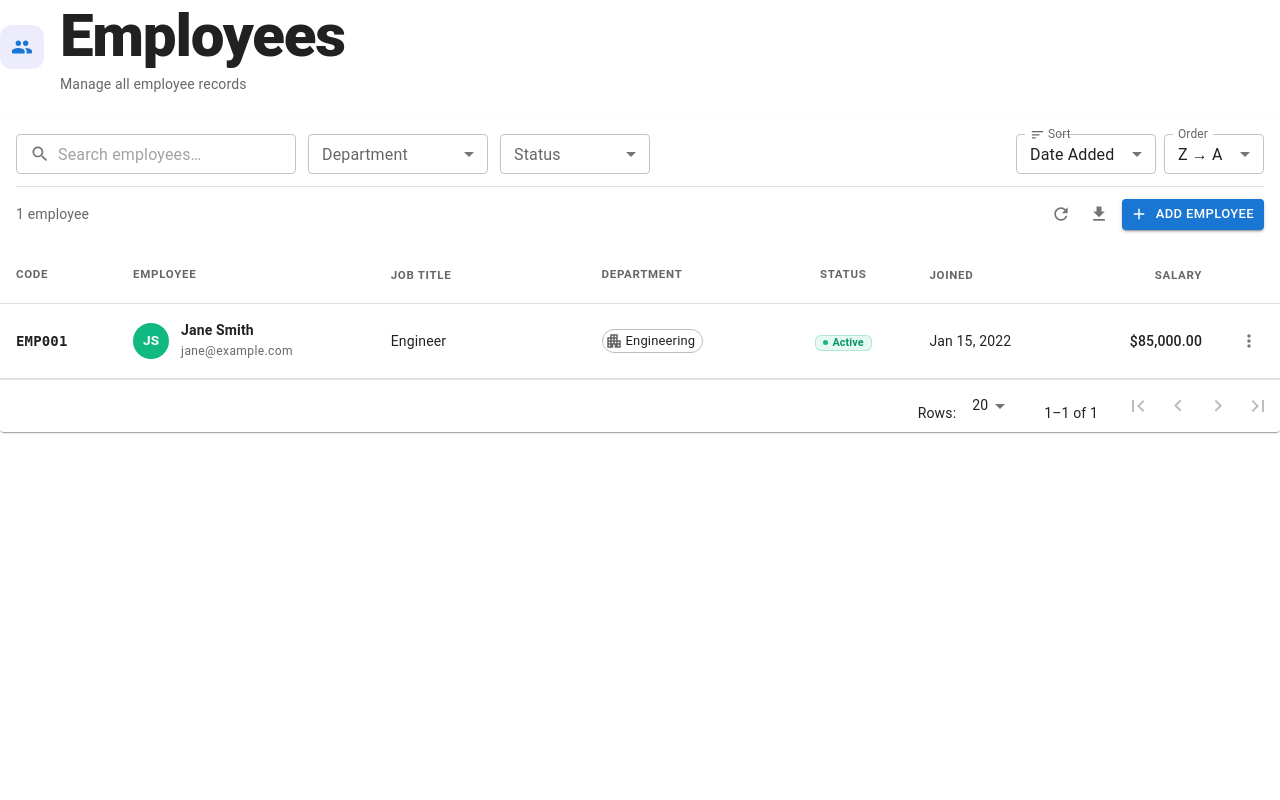
EmployeesPage › opens create dialog when Add Employee is clicked
Click the button with aria-label "add new employee".
click(1193, 214)  # box left=1122, top=199, right=1264, bottom=230
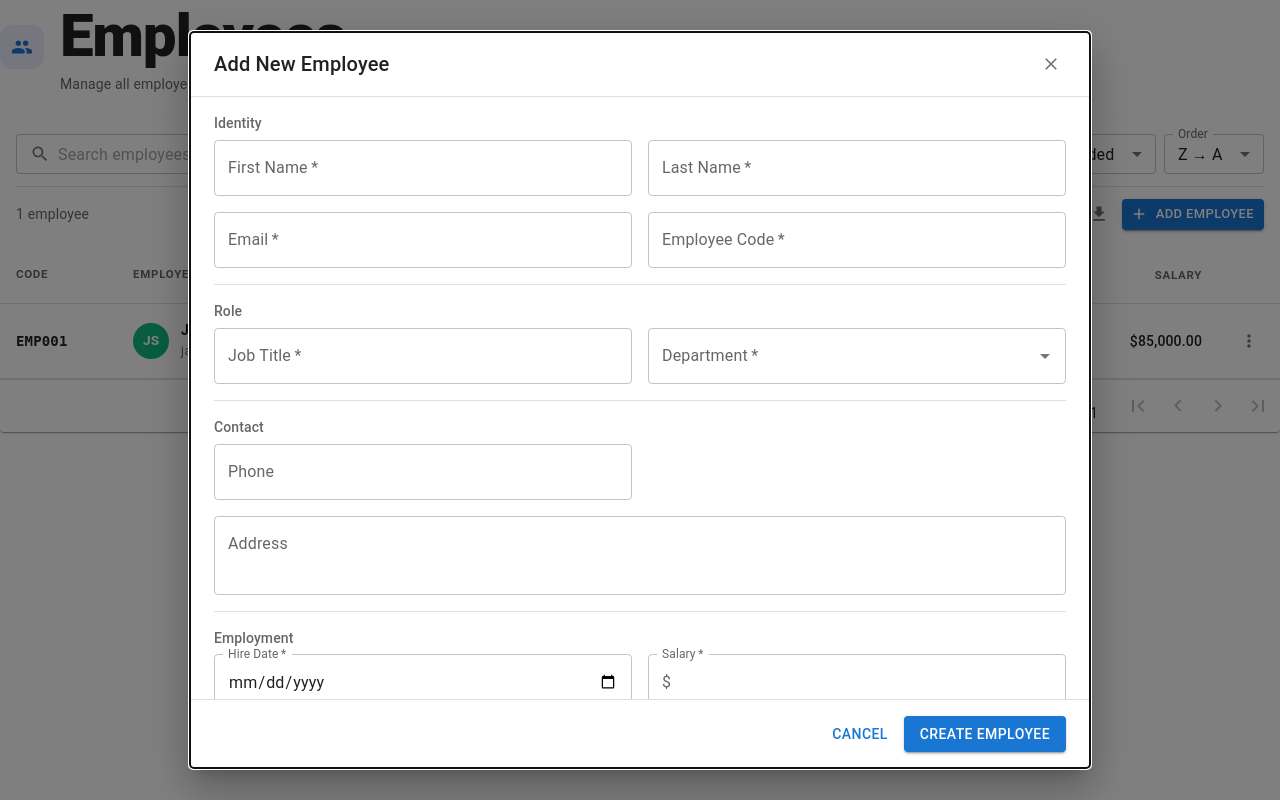
Result: the dialog "Add New Employee" is shown
